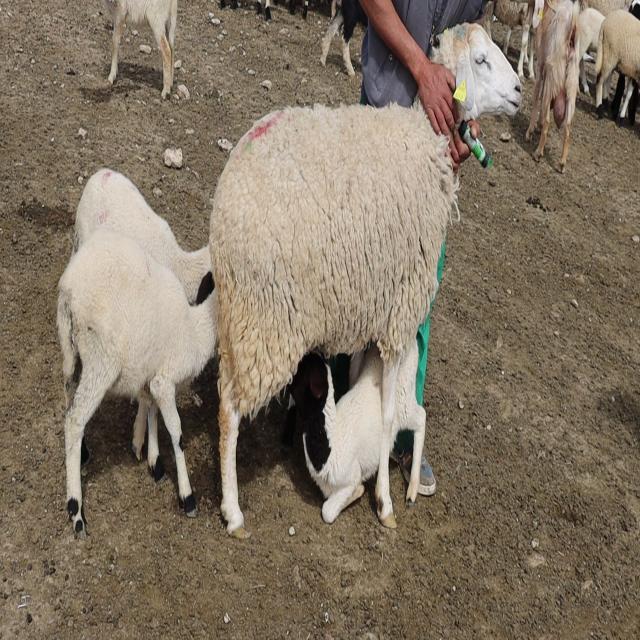Score_4: (209, 104, 458, 536)
